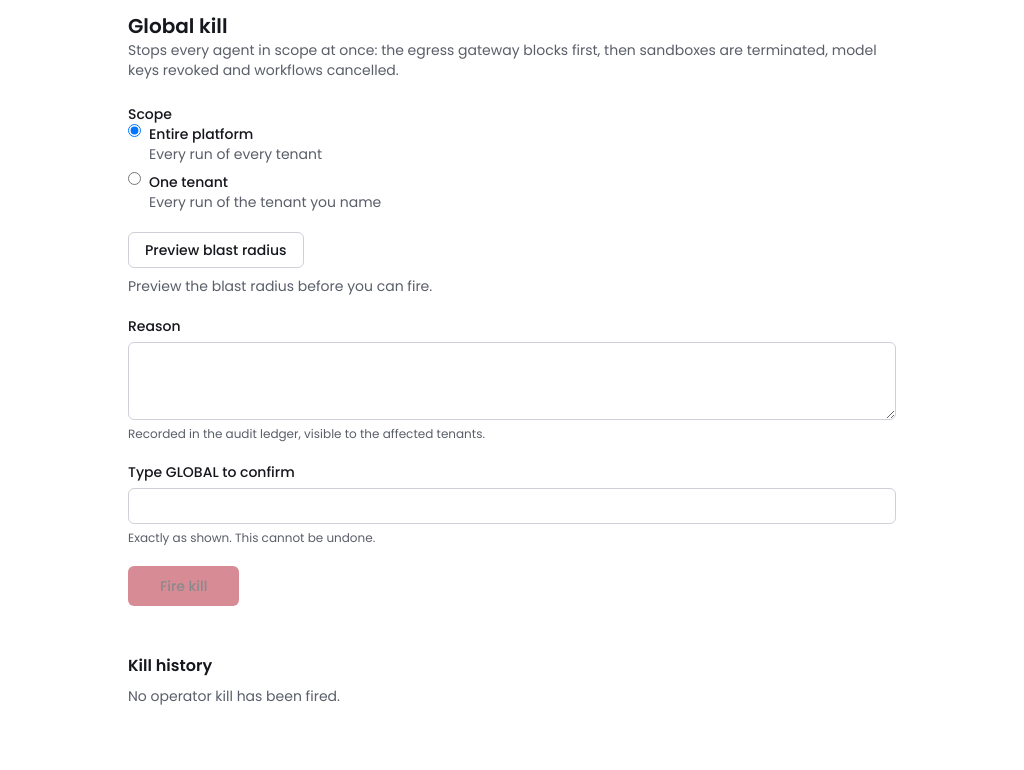
Test: GlobalKillPanel: halt progress (simulated kill) › says nothing was running when the kill completed in zero time
Click the button "Preview blast radius". click: (216, 250)
box: [128,232,304,268]
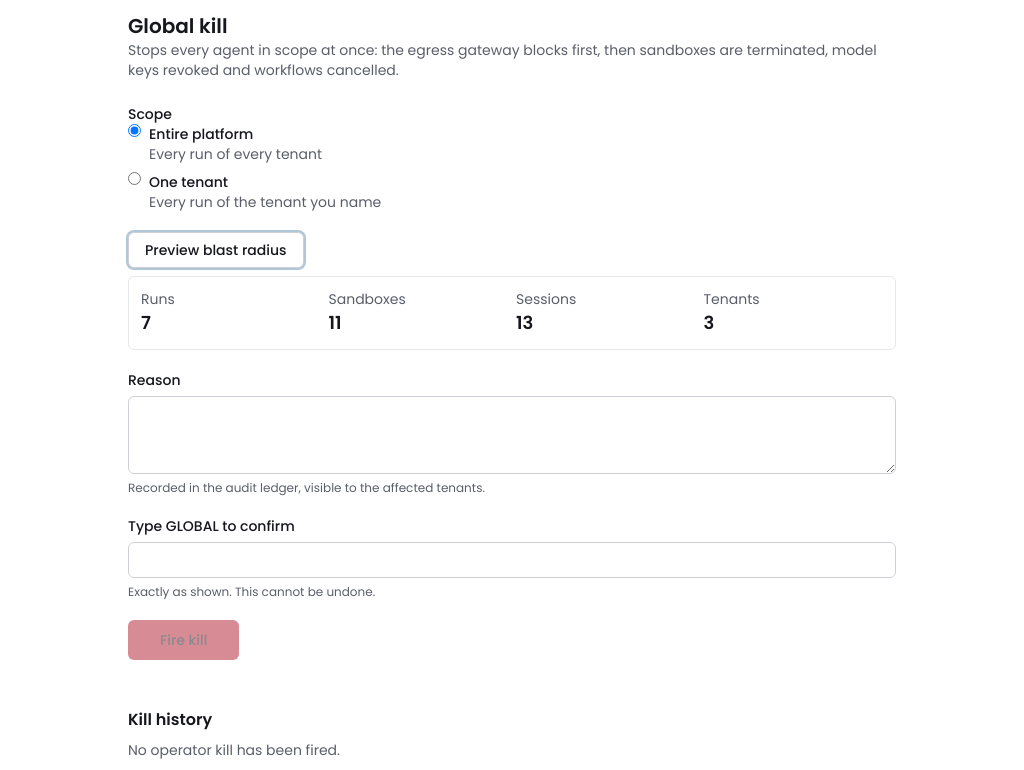
Check: the text "Preview the blast radius before" is gone
Type "platform incident" into the text box labelled "Reason". click: (512, 435)
box: [128,396,896,474]
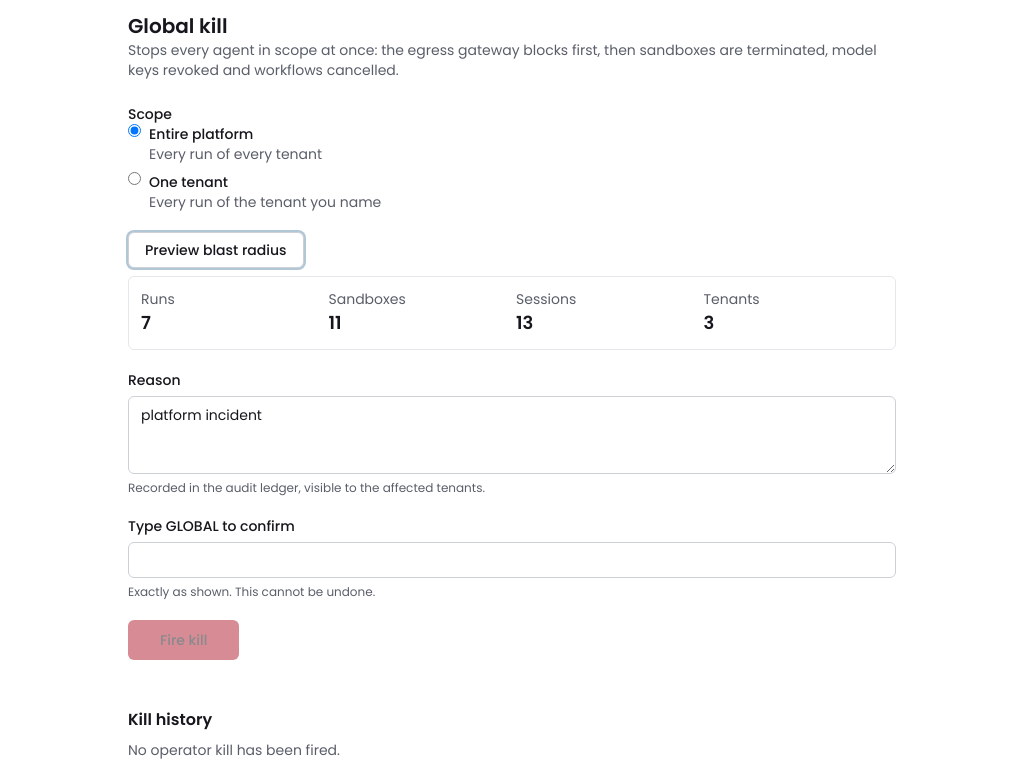
Type "GLOBAL" into the field labelled "Type GLOBAL to confirm". click: (512, 560)
box: [128,542,896,578]
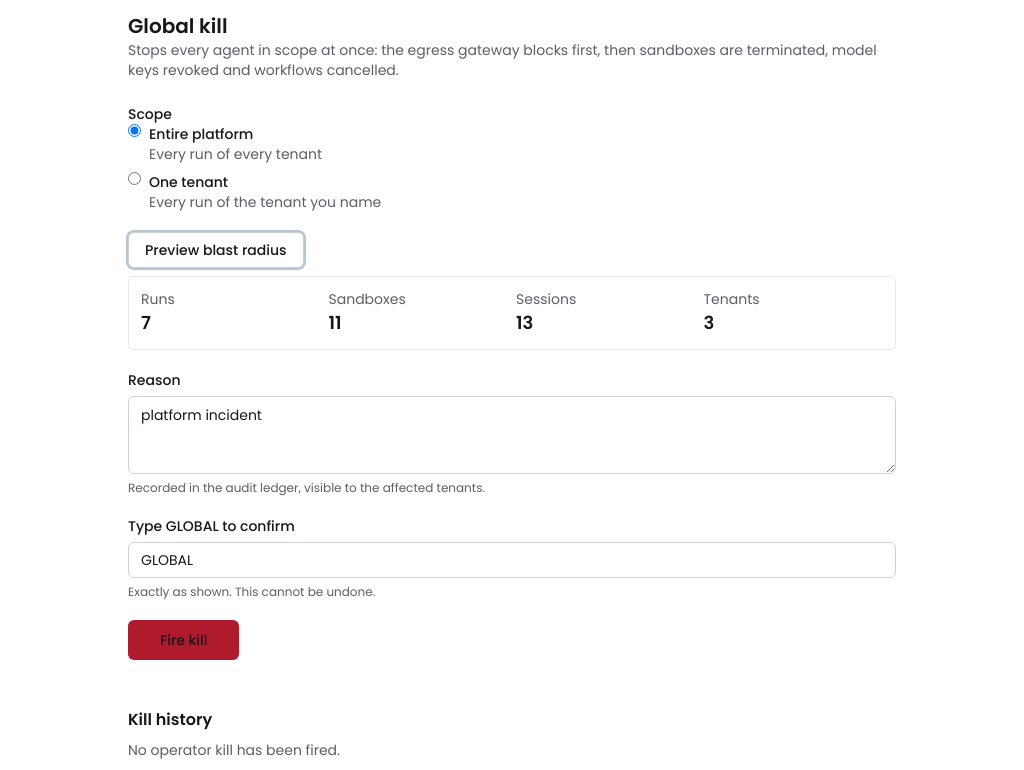
Click the button "Fire kill". click: (184, 640)
box: [128,620,239,660]
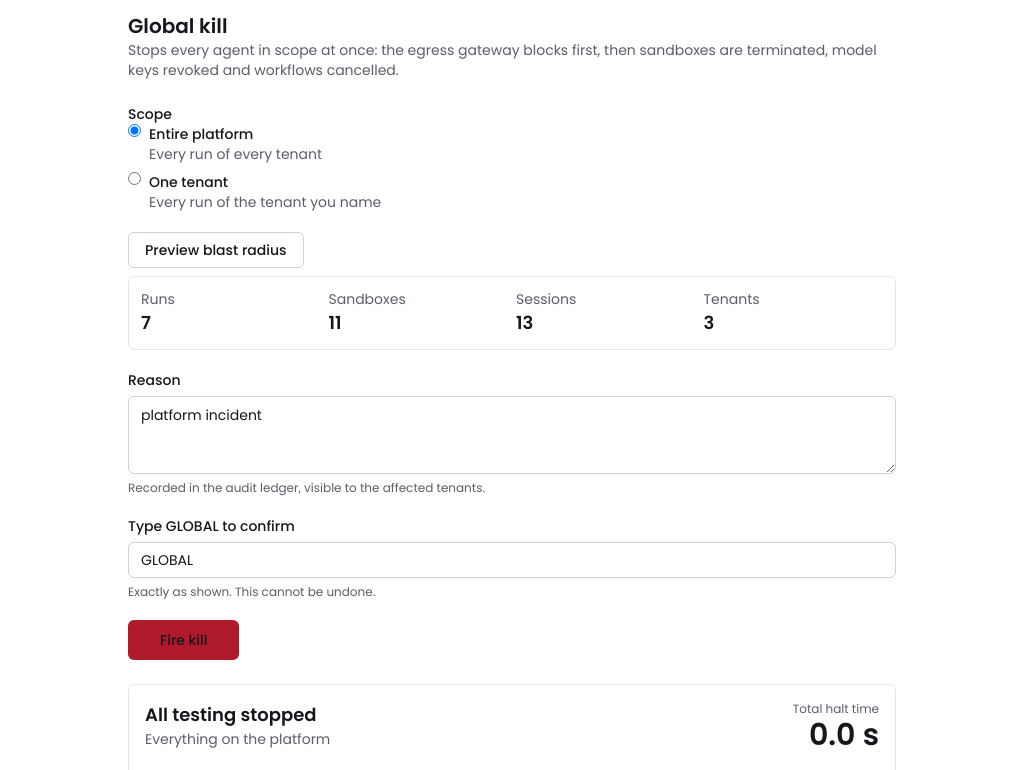
Check: the text with test id "halt-time" reads "0.0 s", box [809,714,879,756]
